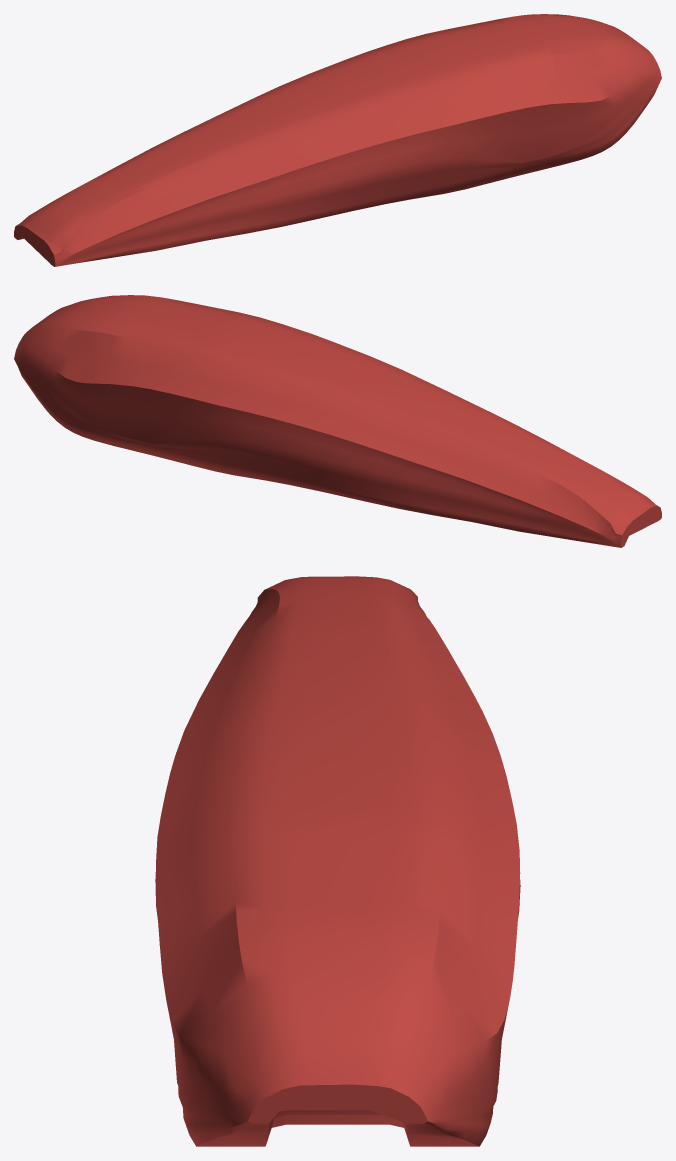
The model's file is bobber_4_lod2.glb.
3 renders of one model, top to bottom at view 1: azimuth 30°, elevation 25°; view 2: azimuth 150°, elevation 25°; view 3: azimuth 270°, elevation 25°, orthographic. The views are drawn at different scales.
Parts seen in each view (by area): view 1: bobber_4_lod2; view 2: bobber_4_lod2; view 3: bobber_4_lod2.
Part boxes in pixels (bbox=[...]): bobber_4_lod2: bbox=[14, 14, 661, 266]; bobber_4_lod2: bbox=[14, 295, 661, 547]; bobber_4_lod2: bbox=[155, 576, 520, 1146].
Size of the model in its own units: 1.06 by 0.184 by 0.2784.
